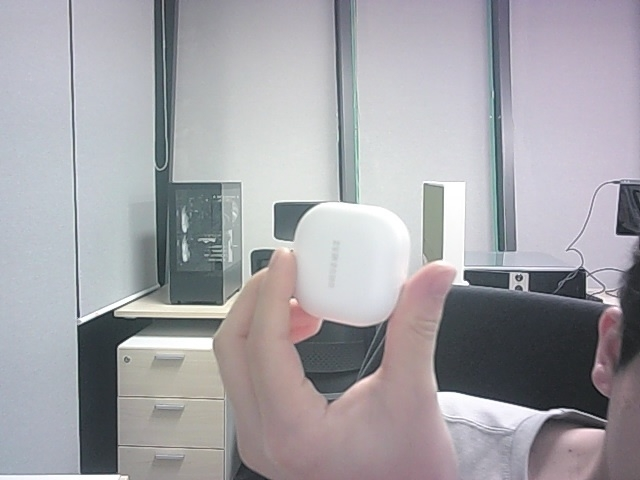case: (293, 202, 409, 327)
